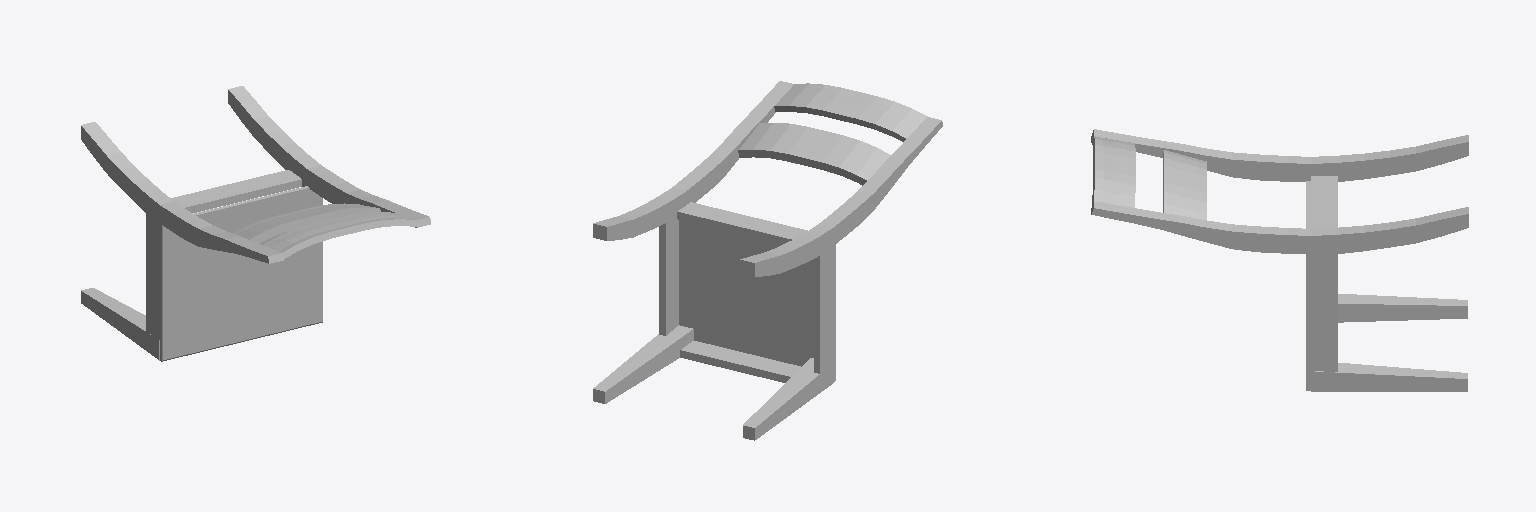
Rendered from chair.obj.obj.
3 views of the same model, side by side, from view 1: azimuth 30°, elevation 25°; view 2: azimuth 150°, elevation 25°; view 3: azimuth 270°, elevation 25° (orthographic).
Parts seen in each view (by area): view 1: Box698, Box697, Box702, Box695, Box701, Box705, Box696, Box704; view 2: Box698, Box697, Box702, Box696, Box695, Box699, Box705, Box701, Box700, Box704, Box703; view 3: Box702, Box697, Box699, Box703, Box705, Box695, Box696, Box701, Box698.
Boxes of the visible parts, x1,y1,x2,y2 form: Box698: [159, 186, 322, 361]; Box697: [81, 122, 283, 263]; Box702: [228, 86, 430, 227]; Box695: [263, 212, 416, 258]; Box701: [171, 170, 301, 212]; Box705: [81, 288, 159, 360]; Box696: [233, 203, 380, 243]; Box704: [146, 214, 158, 339]; Box698: [679, 220, 835, 381]; Box697: [740, 117, 942, 276]; Box702: [593, 81, 792, 240]; Box696: [738, 123, 890, 185]; Box695: [774, 83, 927, 141]; Box699: [593, 325, 693, 403]; Box705: [743, 358, 833, 440]; Box701: [677, 202, 807, 244]; Box700: [680, 341, 800, 382]; Box704: [814, 247, 832, 373]; Box703: [659, 217, 678, 335]; Box702: [1091, 201, 1468, 253]; Box697: [1091, 129, 1468, 181]; Box699: [1311, 363, 1467, 391]; Box703: [1311, 254, 1337, 371]; Box705: [1338, 294, 1467, 322]; Box695: [1092, 136, 1135, 207]; Box696: [1163, 150, 1206, 219]; Box701: [1311, 176, 1337, 228]; Box698: [1306, 181, 1310, 390].
Bounding box in the file's own units: 47.82 × 54.18 × 96.25.